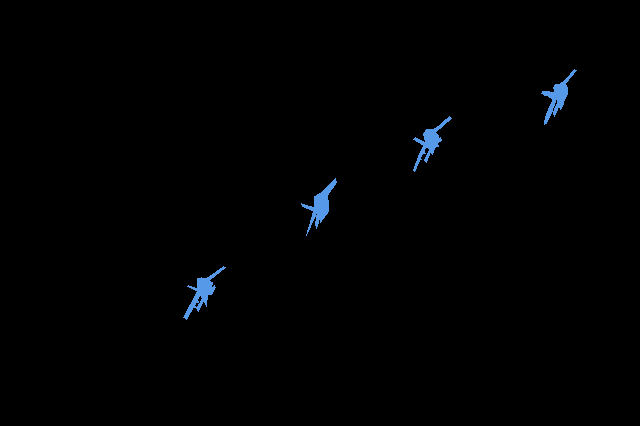Airplane: (183, 266, 225, 320), (413, 116, 452, 172), (301, 178, 336, 235), (541, 69, 577, 124)
